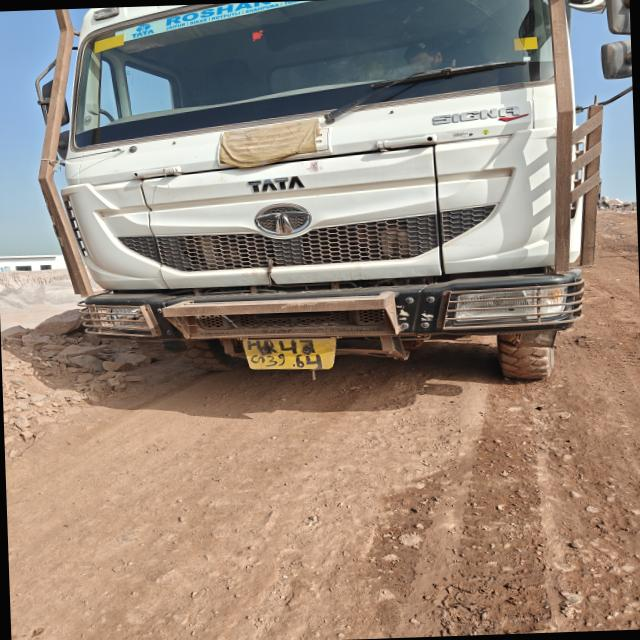license_plate: (243, 338, 335, 370)
